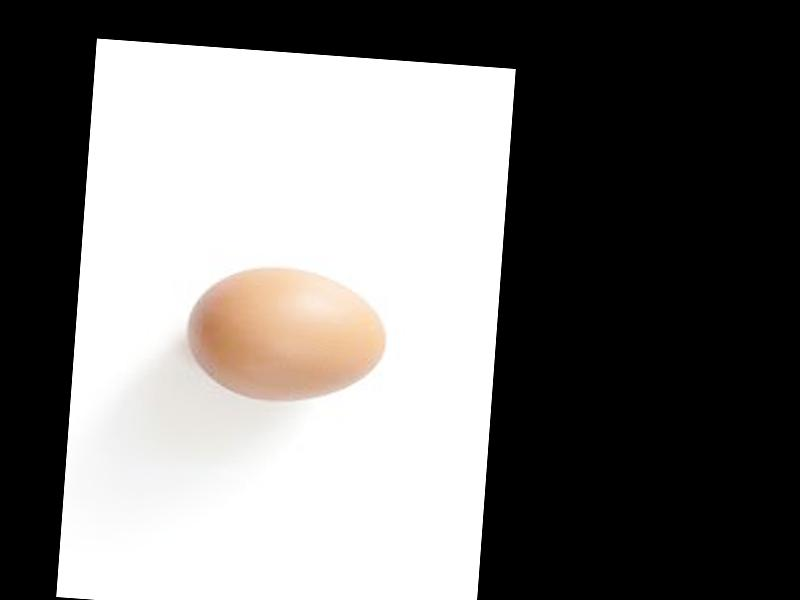Eggs: (183, 263, 392, 408)
